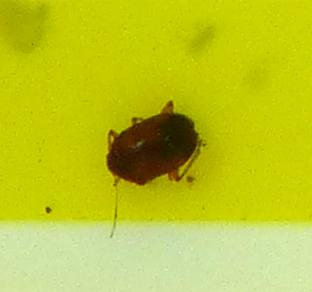Coleoptera: (100, 100, 212, 192)
